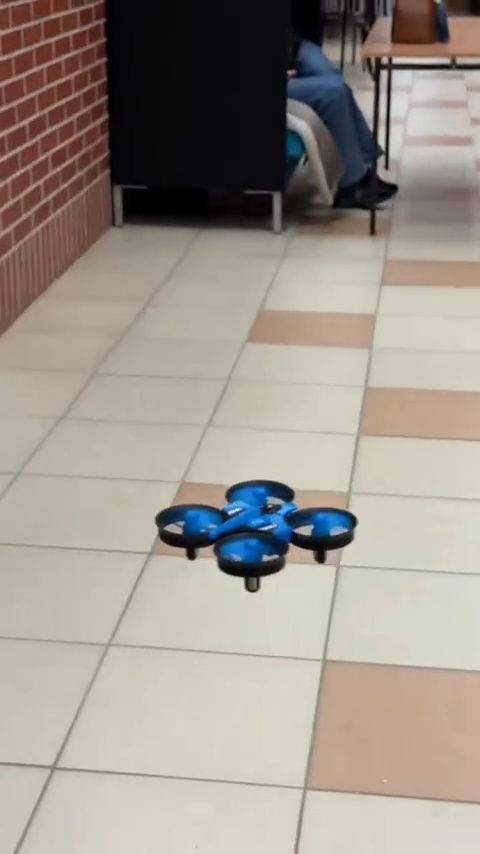drone: (156, 484, 360, 586)
